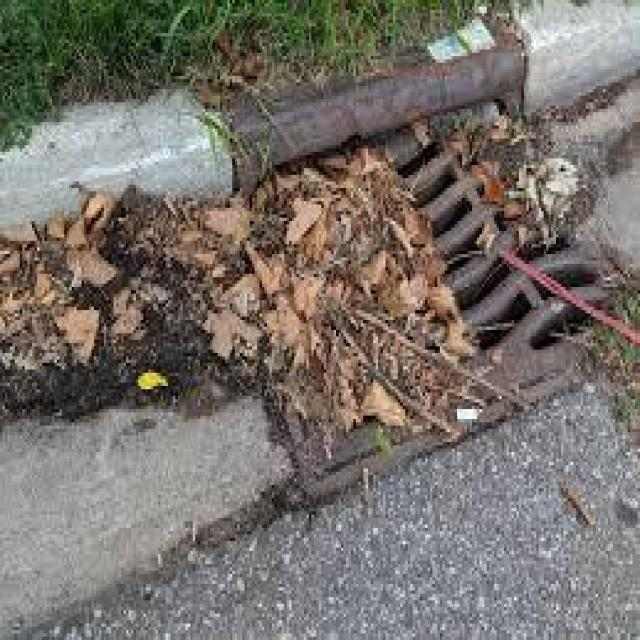hole: (173, 51, 640, 431)
